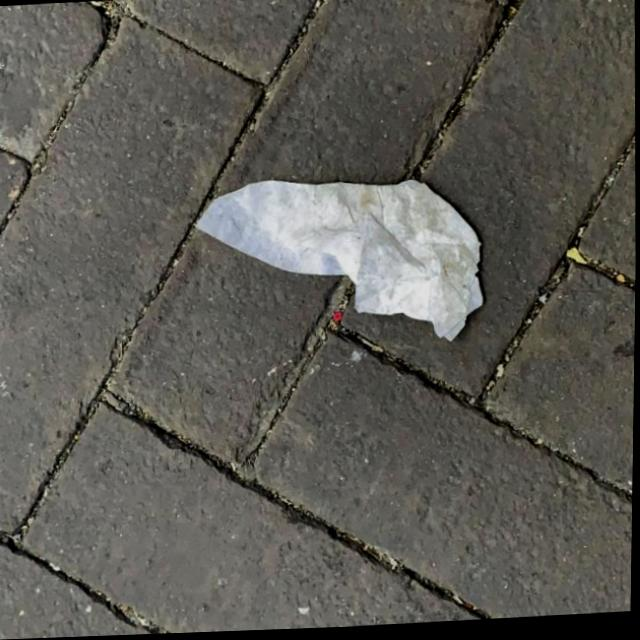Paper: (189, 171, 488, 359)
